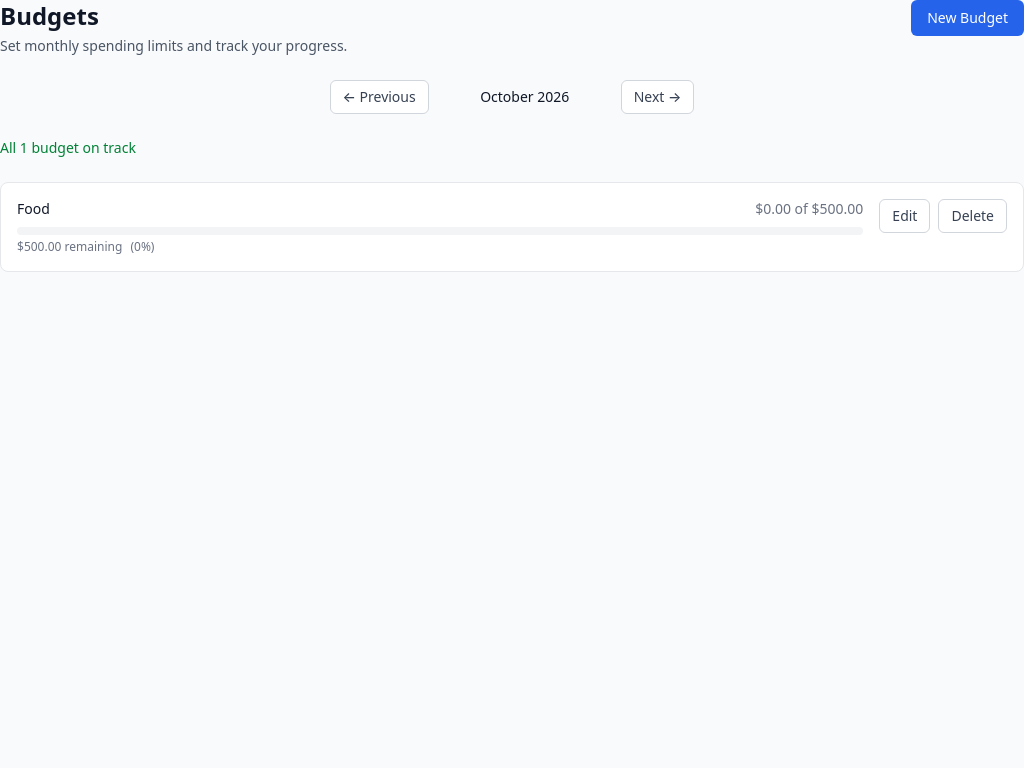
it: Budgets — create dialog › excludes categories that already have budgets
The image size is (1024, 768).
Expected: the heading "Food" is shown, [17, 199, 50, 219]
Click the button "New Budget".
click(968, 18)  # box [911, 0, 1023, 36]
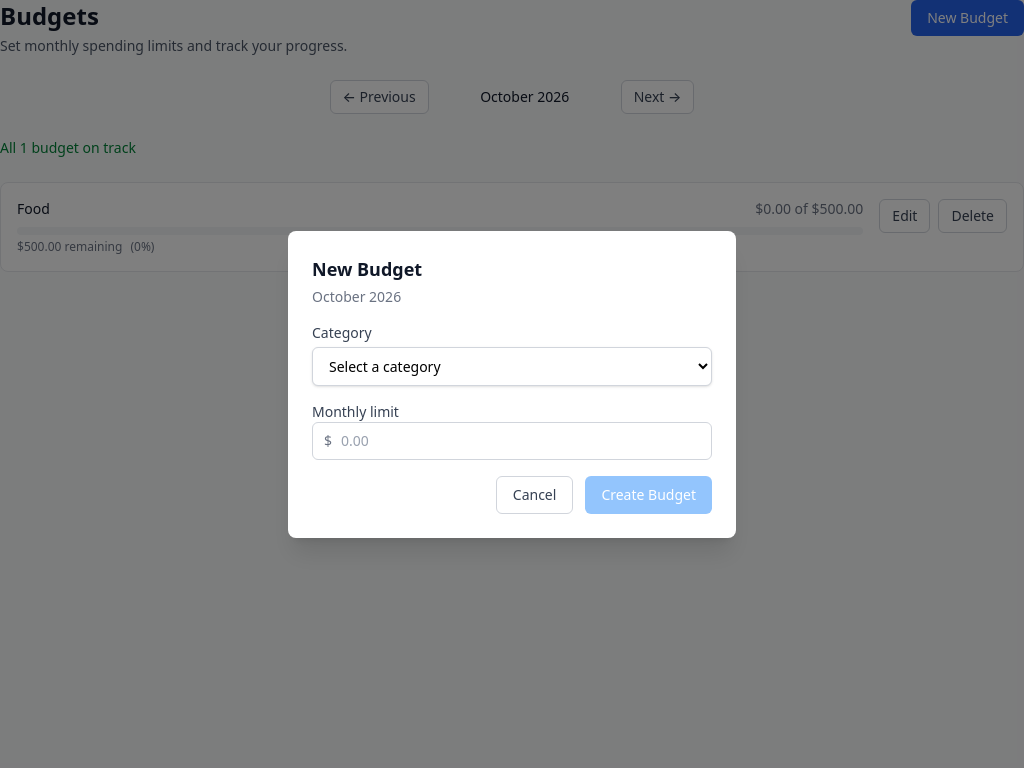
Expected: the dropdown is shown, [312, 346, 712, 386]
